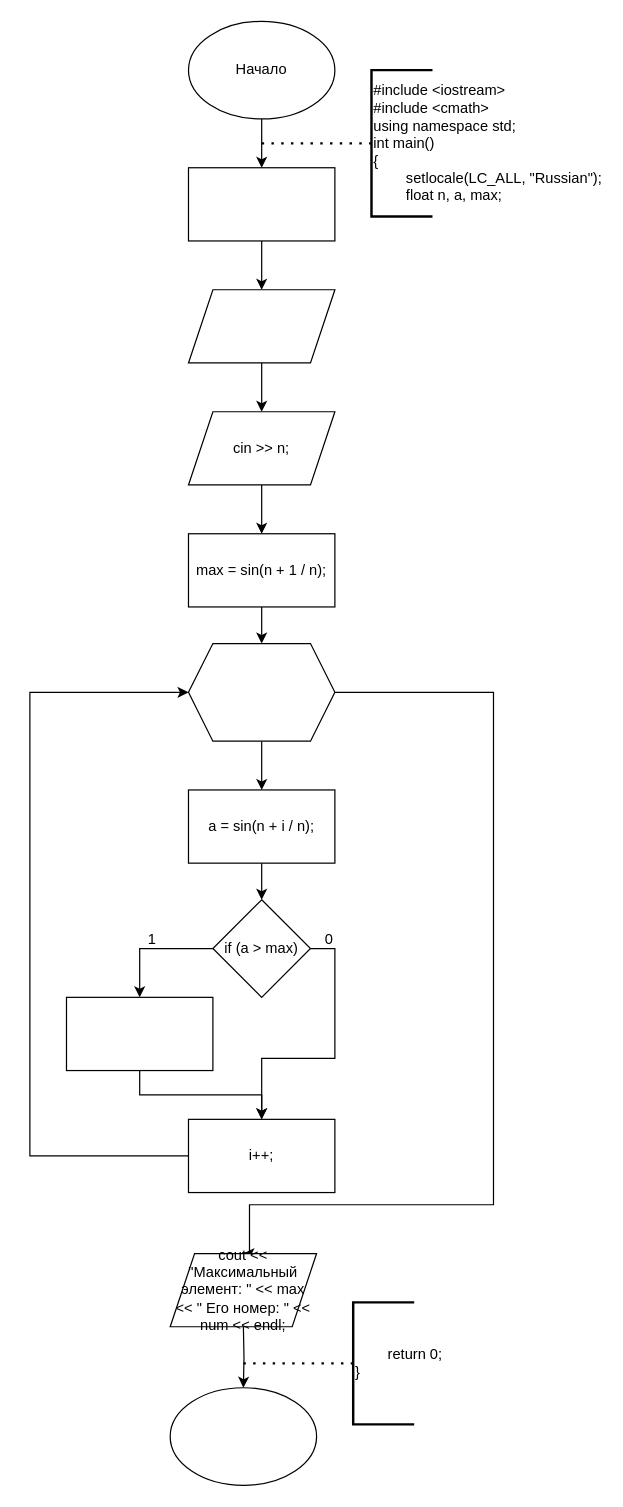
Image size: 623x1507. Some labels were removed from this diagram. The shapes that lost their labels are listed below. From the top down, each one's centre as x and y in pixels, then its label:
(x=261, y=204): int i = 2; int num = 1;
(x=261, y=326): cout << "Введите число: \n";
(x=261, y=691): while (i <= n)
(x=139, y=1033): max = a; num = i;
(x=243, y=1436): Конец
